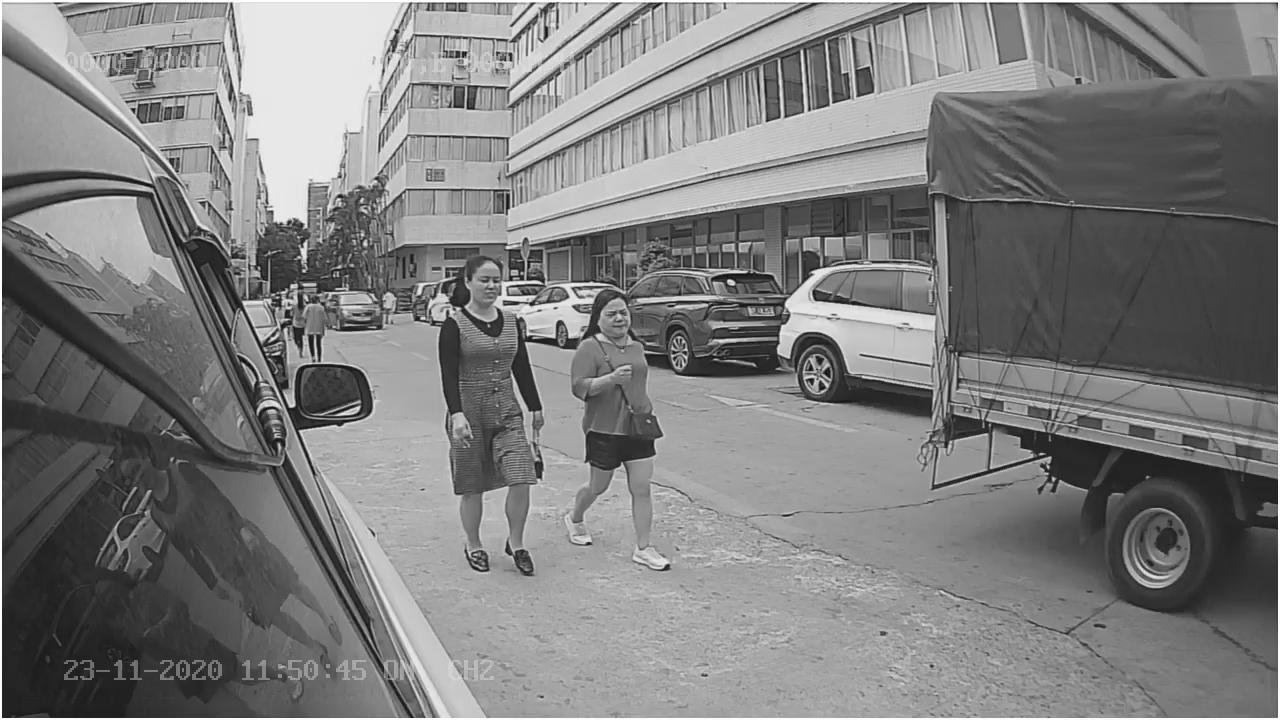person: (436, 249, 543, 576), (564, 279, 675, 569)
